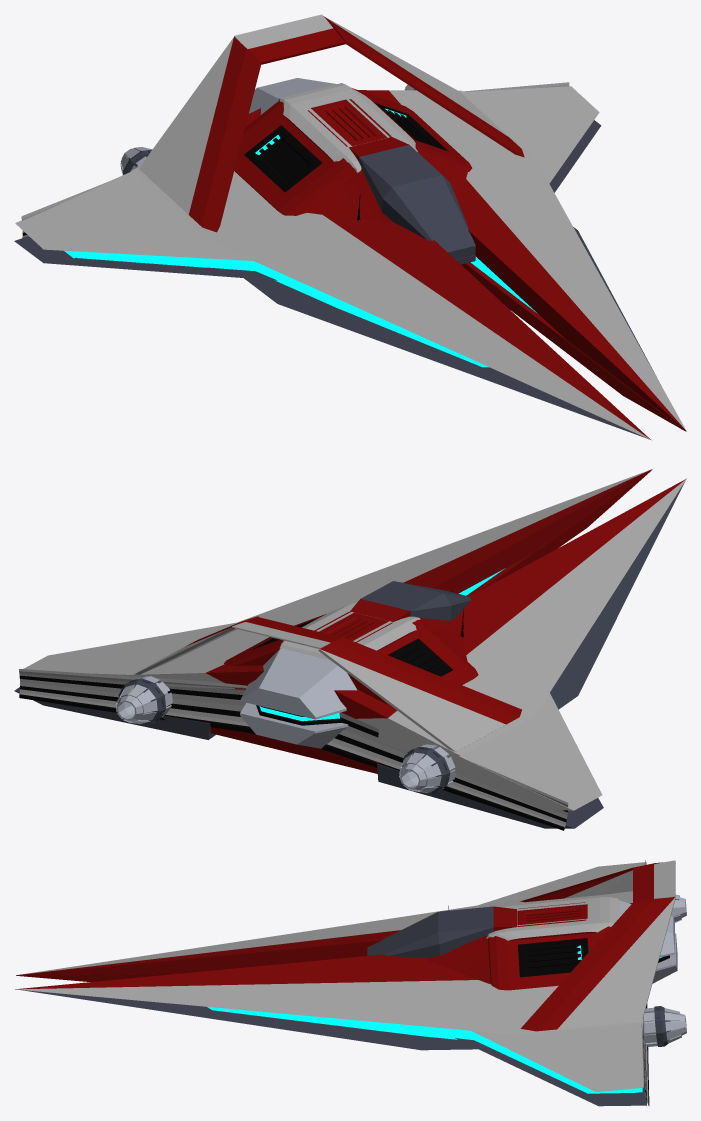
Rendered from pfeil.glb.
The picture shows the model from 3 angles, top to bottom: view 1: azimuth 30°, elevation 25°; view 2: azimuth 150°, elevation 25°; view 3: azimuth 270°, elevation 25°; orthographic projection. The views are drawn at different scales.
Visible parts, largest first — view 1: mergedBlocks_metalPurple(Clone)_0; view 2: mergedBlocks_metalPurple(Clone)_0; view 3: mergedBlocks_metalPurple(Clone)_0.
Part boxes in pixels (x1,y1,x2,y2): mergedBlocks_metalPurple(Clone)_0: (14, 14, 686, 439); mergedBlocks_metalPurple(Clone)_0: (14, 469, 686, 830); mergedBlocks_metalPurple(Clone)_0: (15, 860, 686, 1106).
Size of the model in its own units: 3.88 by 0.9485 by 4.8.
